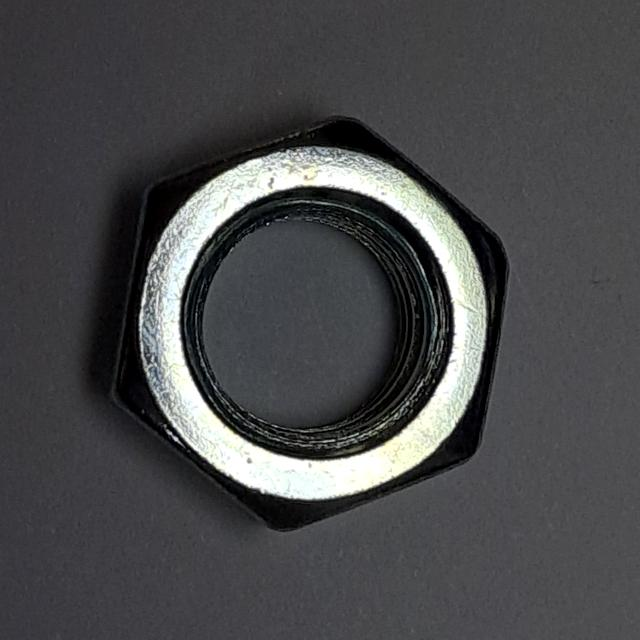Excellent: (100, 96, 520, 542)
